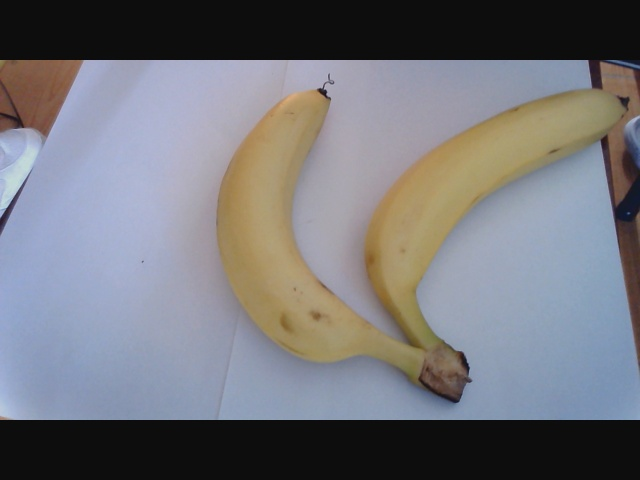banana: (371, 73, 605, 376), (198, 83, 375, 371)
